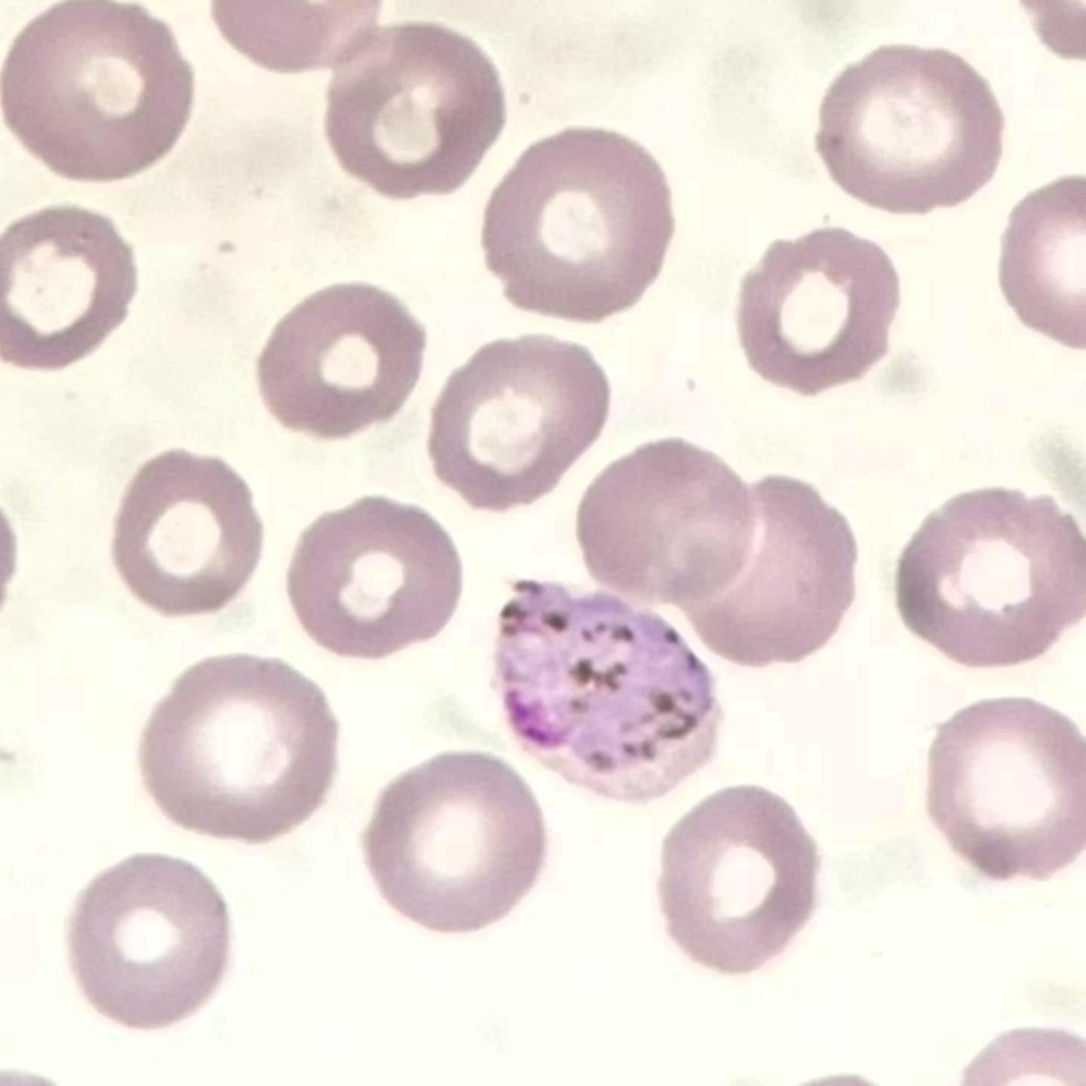Infected: (494, 566, 727, 804)
Uninfected: (478, 129, 672, 325), (890, 478, 1083, 673), (136, 654, 339, 836), (3, 0, 198, 185), (362, 745, 553, 930), (573, 423, 758, 605), (422, 333, 627, 497), (814, 44, 997, 227), (659, 780, 821, 977), (332, 26, 504, 204), (696, 473, 846, 673), (930, 690, 1086, 878), (734, 230, 912, 390), (60, 856, 226, 1026), (287, 494, 463, 653), (116, 441, 261, 611), (0, 197, 136, 375), (246, 287, 407, 432)
